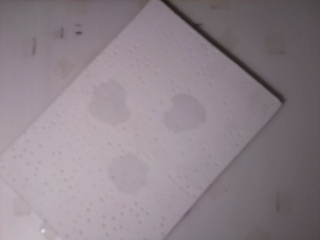Water_detected: (116, 156, 147, 191), (173, 99, 198, 133), (95, 81, 120, 114)
